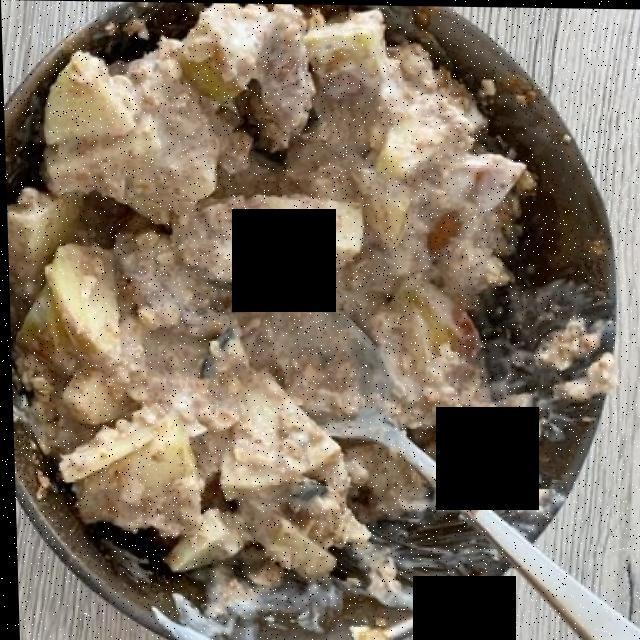apple: (9, 5, 443, 602)
